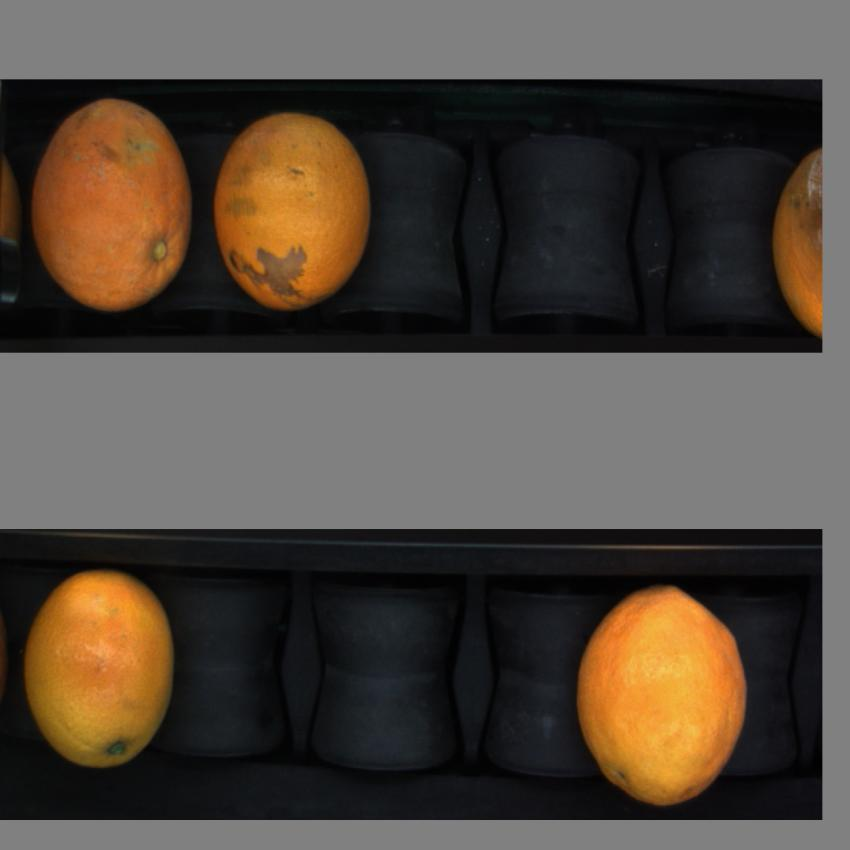Buen estado: (569, 581, 749, 807), (22, 568, 182, 771)
Mal estado: (28, 92, 196, 319), (212, 107, 376, 315), (770, 136, 821, 349)
